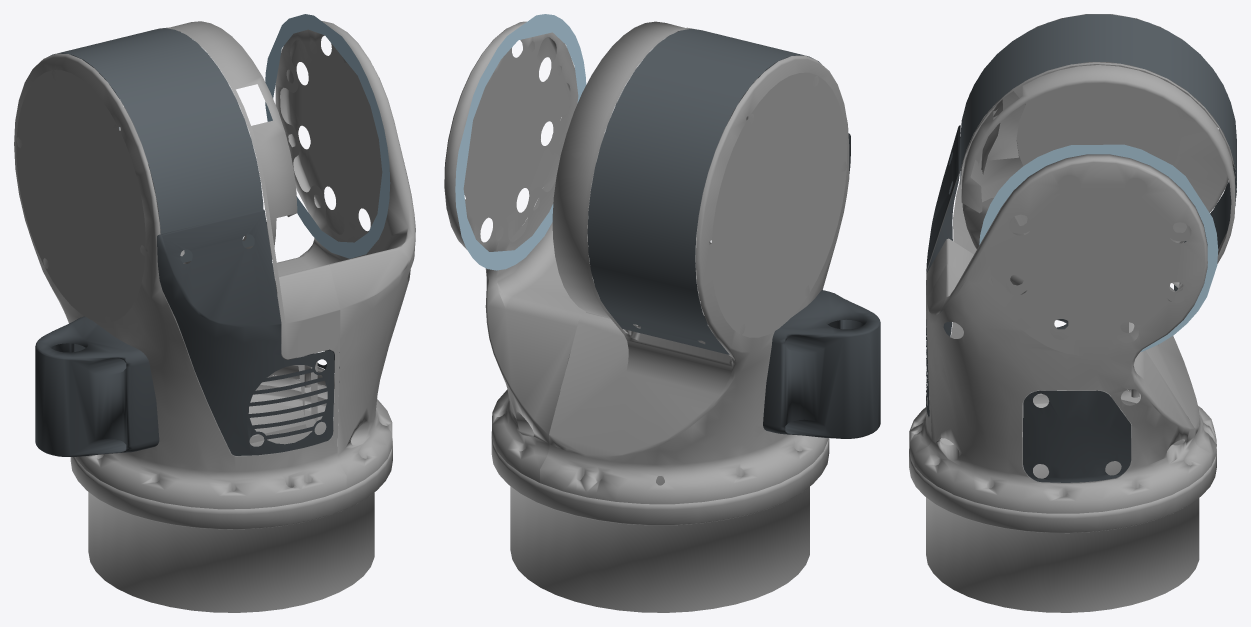
File: LEFT_SHOULDER_PITCH_LINK.obj
The picture shows the model from 3 angles, left to right: view 1: azimuth 30°, elevation 25°; view 2: azimuth 150°, elevation 25°; view 3: azimuth 270°, elevation 25°; orthographic projection. The views are drawn at different scales.
Size of the model in its own units: 0.1361 by 0.1946 by 0.1197.
